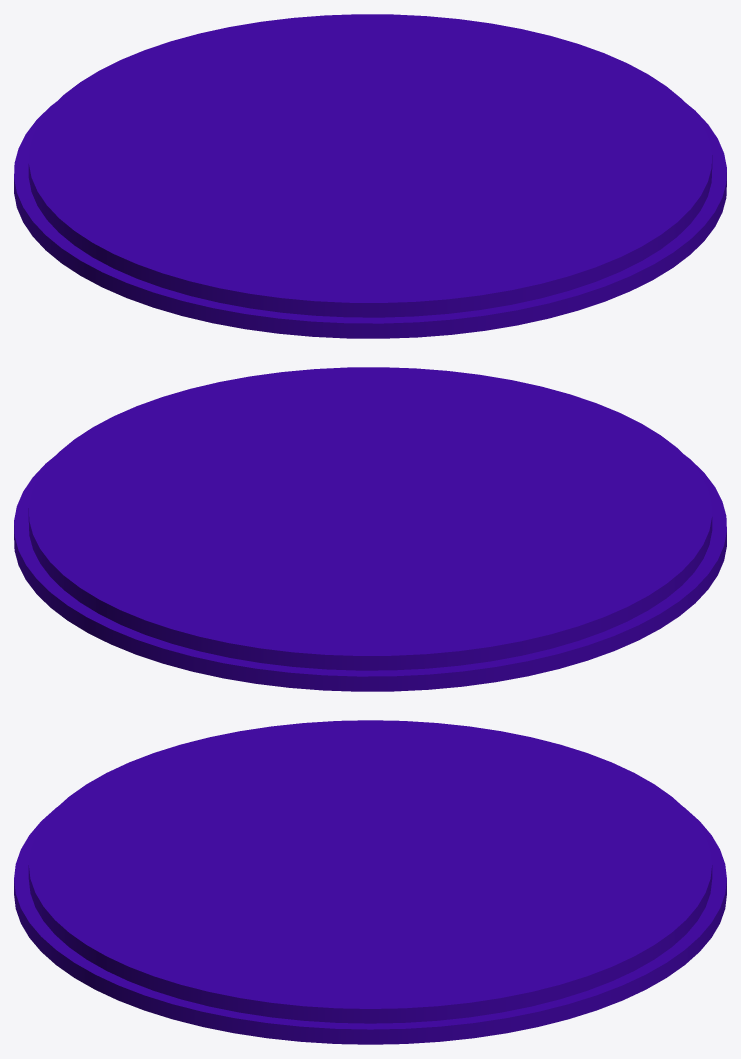
The model's file is platform.fbx.
The picture shows the model from 3 angles, top to bottom: view 1: azimuth 30°, elevation 25°; view 2: azimuth 150°, elevation 25°; view 3: azimuth 270°, elevation 25°; orthographic projection.
Visible parts, largest first — view 1: platform; view 2: platform; view 3: platform.
Boxes of the visible parts, x1,y1,x2,y2 form: platform: (14, 14, 726, 338); platform: (14, 367, 726, 691); platform: (14, 720, 726, 1044).
Bounding box in the file's own units: 209 × 9.51 × 209.
